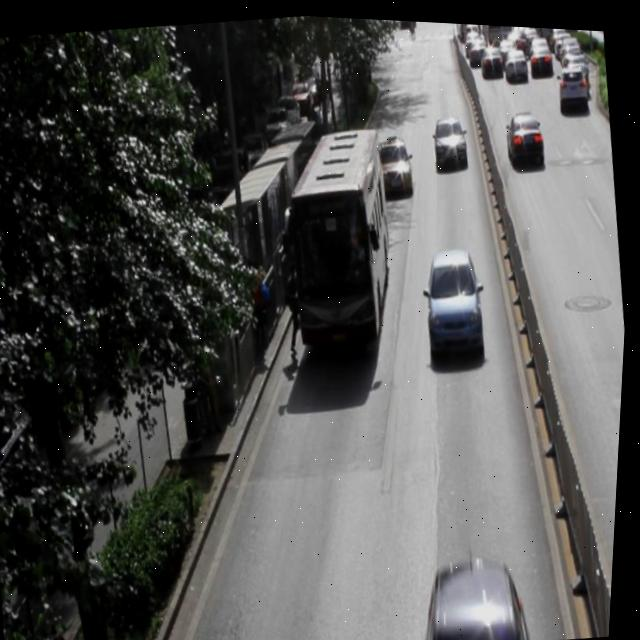car: (420, 547, 540, 640), (421, 240, 489, 350), (373, 131, 416, 191), (502, 103, 546, 160), (430, 109, 469, 160)
van: (278, 119, 406, 345)
